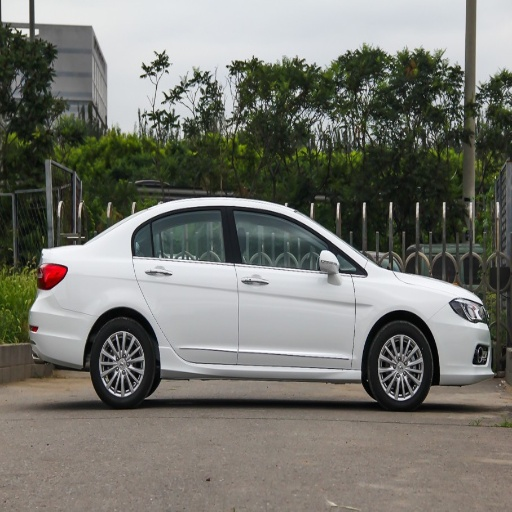back_right_door: (136, 205, 238, 364)
front_right_door: (231, 205, 356, 366)
